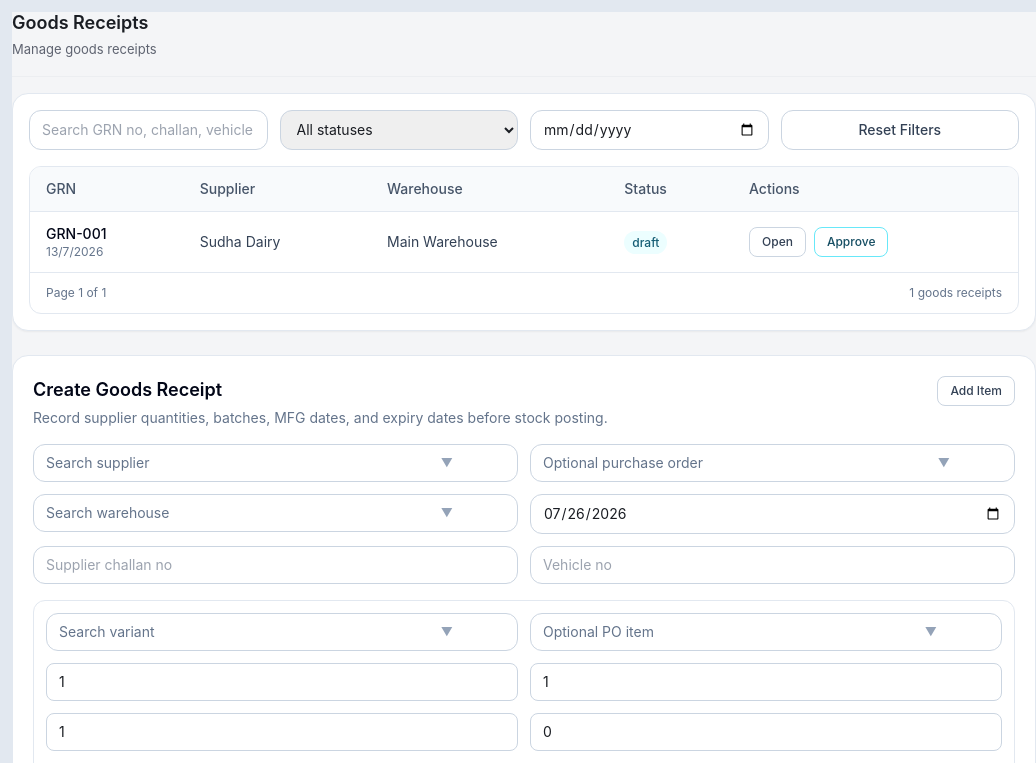
Test: GoodsReceiptListView › approves a draft goods receipt from the list action
Expected: the text "GRN-001" is shown, [46,225,106,242]
Step 1. Click the button "Approve" → (851, 242), box [814,227,888,257]
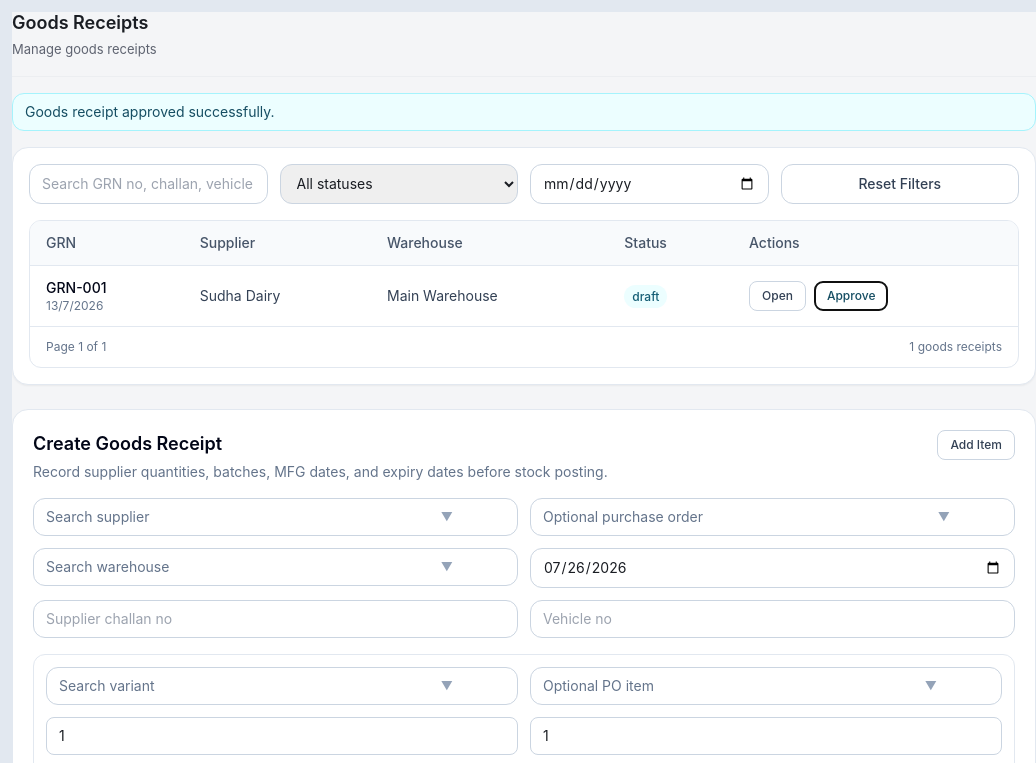
Expected: the text "Goods receipt approved successfully." is shown, [12,93,1035,131]
